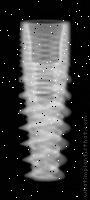Euroteknika: (20, 21, 73, 183)
